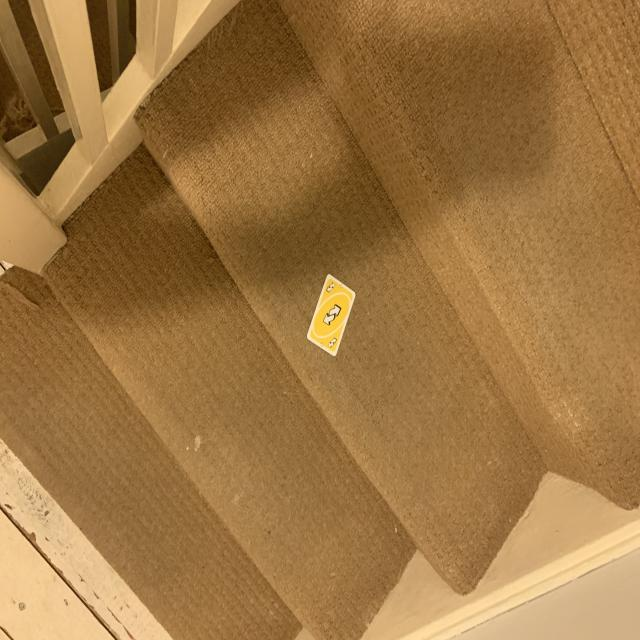lyellowrevers-20: (324, 280, 336, 293)
